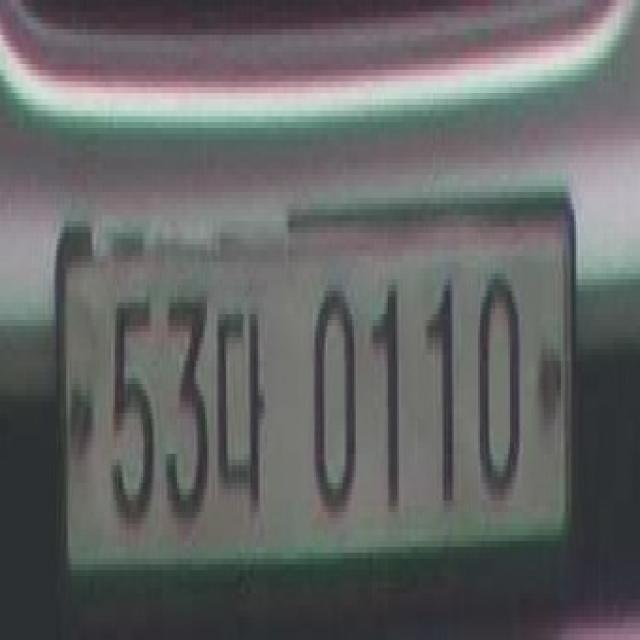0: (470, 274, 534, 501), (316, 279, 362, 524)
1: (414, 274, 474, 536), (363, 268, 416, 535)
3: (162, 280, 220, 530)
5: (111, 285, 164, 524)
da: (213, 297, 282, 518)
license_plate: (45, 174, 593, 611)
